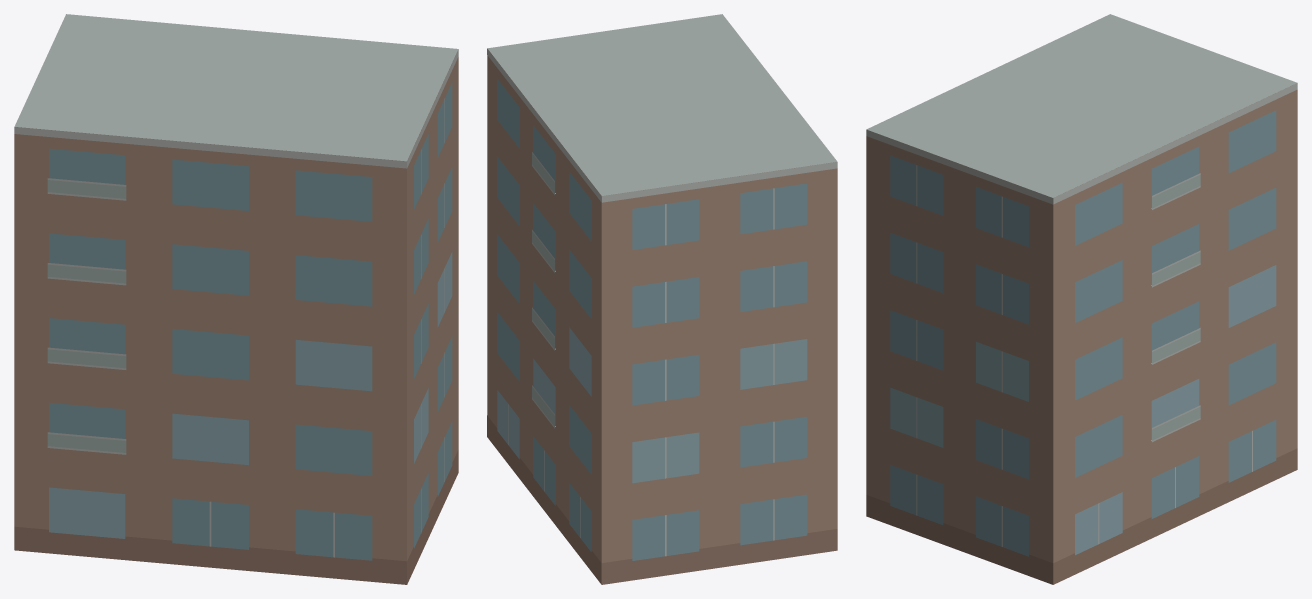
File: survey-upis-32940404.glb
The picture shows the model from 3 angles, left to right: view 1: azimuth 30°, elevation 25°; view 2: azimuth 150°, elevation 25°; view 3: azimuth 270°, elevation 25°; orthographic projection. The views are drawn at different scales.
Parts seen in each view (by area): view 1: survey-upis-32940404.tmp; view 2: survey-upis-32940404.tmp; view 3: survey-upis-32940404.tmp.
Boxes of the visible parts, left/top/right/bottom form: survey-upis-32940404.tmp: left=14, top=14, right=458, bottom=584; survey-upis-32940404.tmp: left=487, top=14, right=837, bottom=584; survey-upis-32940404.tmp: left=866, top=14, right=1297, bottom=584.
Bounding box in the file's own units: 14.7 × 14.4 × 14.56.
